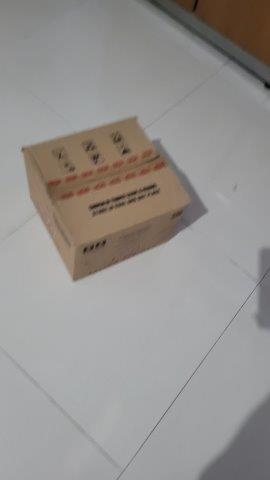kardus: (24, 115, 191, 280)
